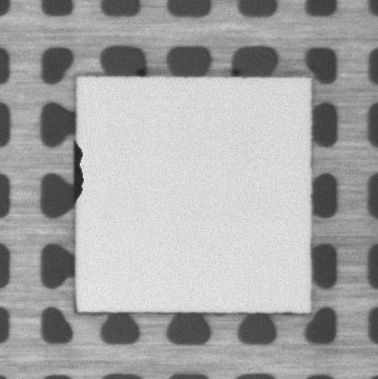DIE_BROKEN: (71, 140, 86, 205)
